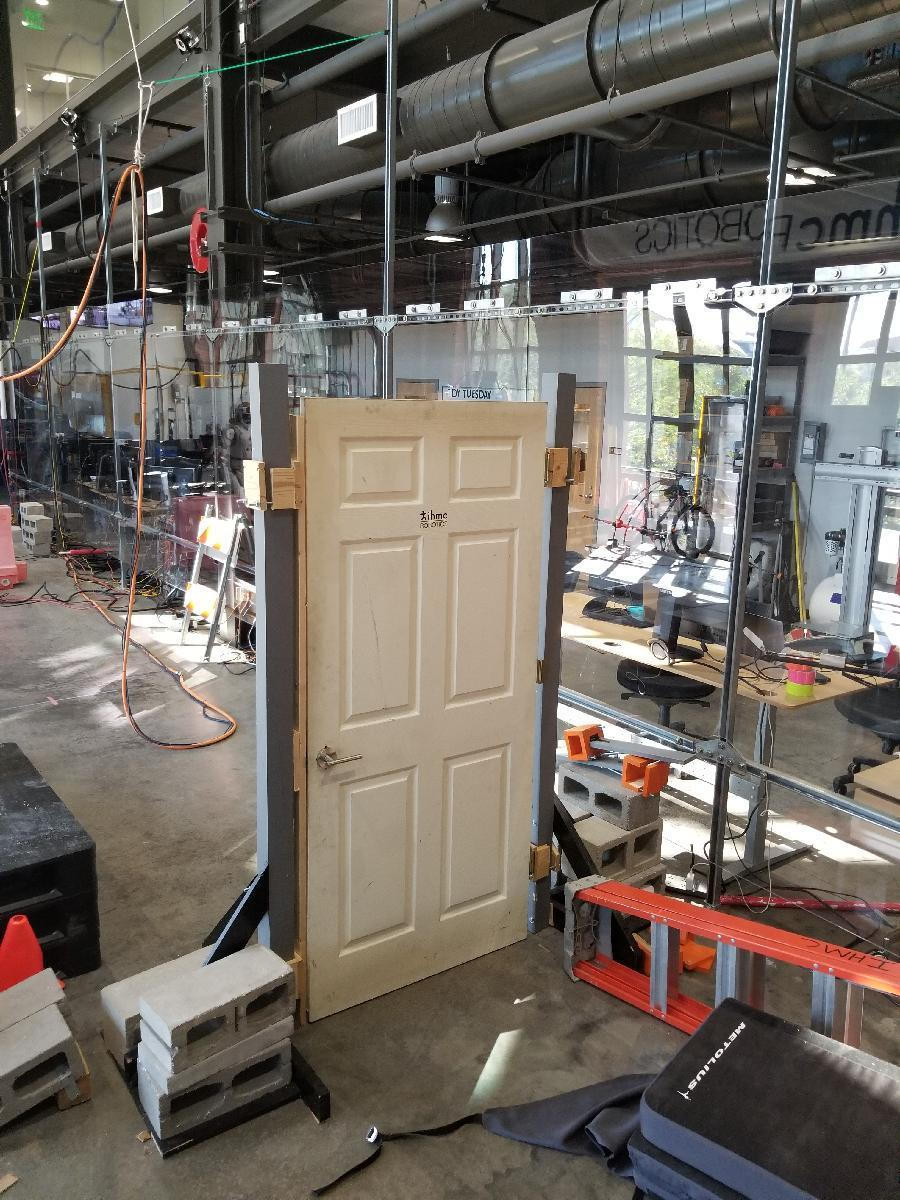door: (304, 393, 542, 993)
handle: (308, 738, 368, 777)
